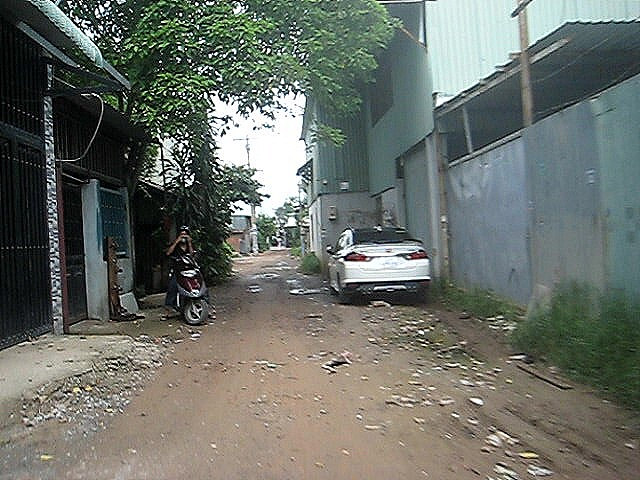hole: (287, 285, 325, 297), (247, 271, 283, 280), (259, 264, 301, 270), (244, 283, 265, 294)
